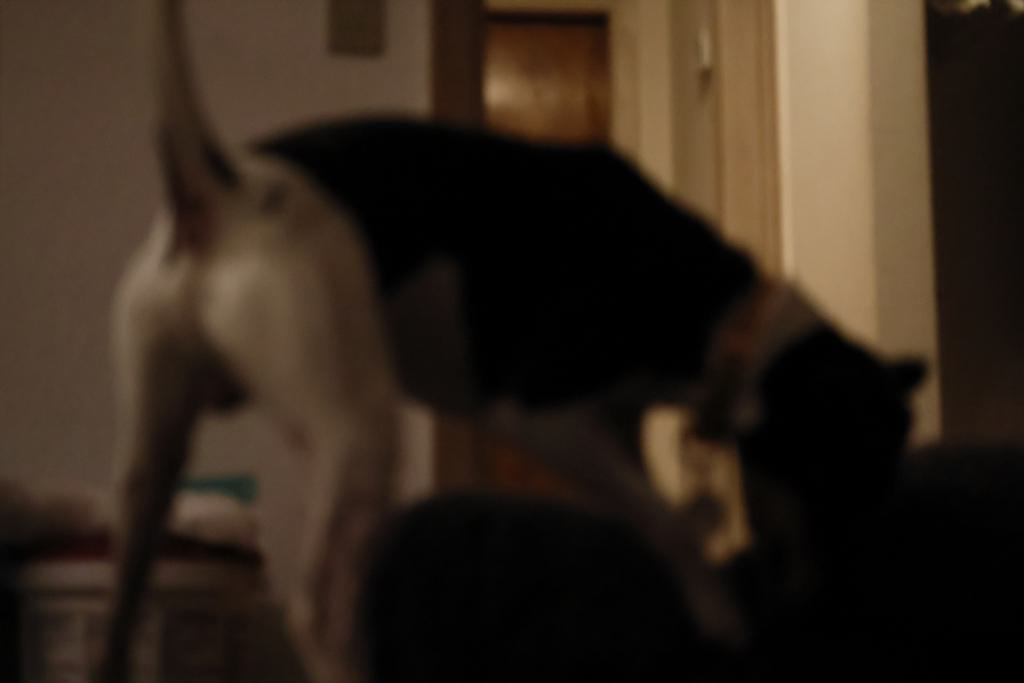Dog: (75, 0, 947, 683)
